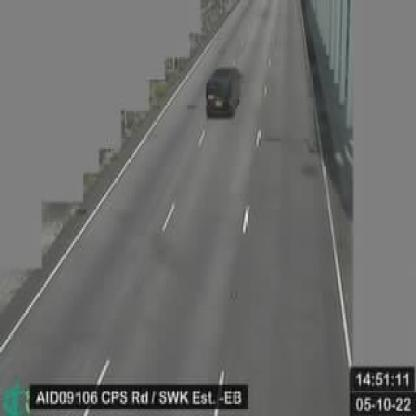Car: (205, 68, 238, 121)
